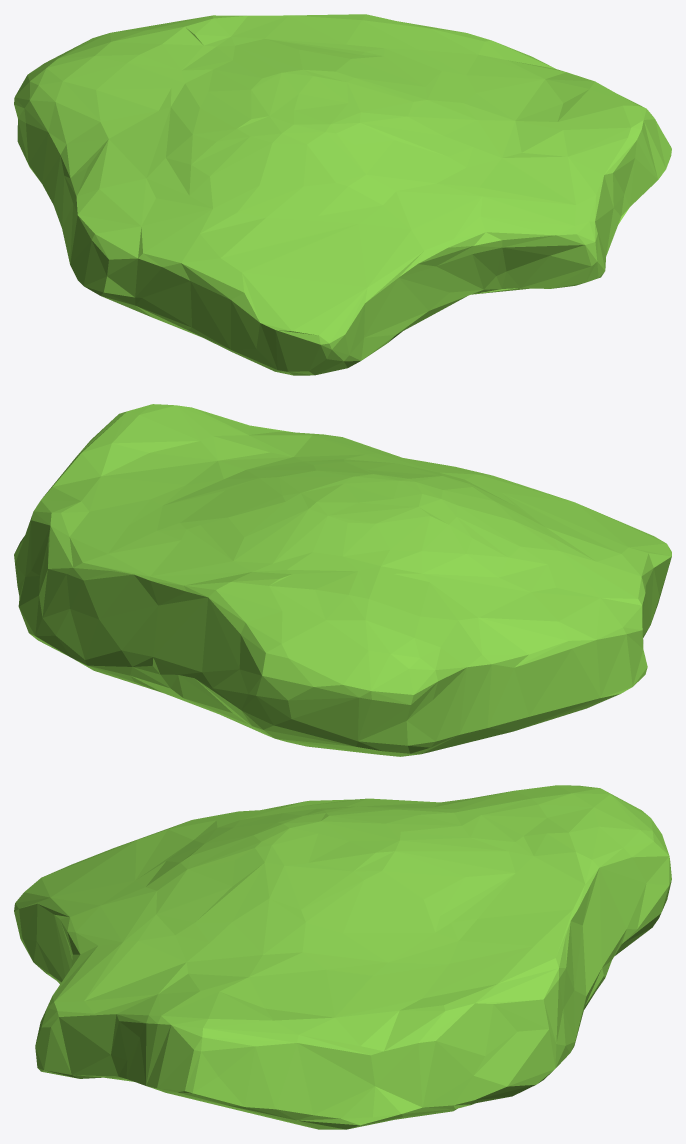
Rendered from Mosh 04.FBX.
The picture shows the model from 3 angles, top to bottom: view 1: azimuth 30°, elevation 25°; view 2: azimuth 150°, elevation 25°; view 3: azimuth 270°, elevation 25°; orthographic projection. The views are drawn at different scales.
Visible parts, largest first — view 1: cube; view 2: cube; view 3: cube.
Boxes of the visible parts, left/top/right/bottom form: cube: left=14, top=14, right=671, bottom=375; cube: left=14, top=404, right=671, bottom=756; cube: left=14, top=785, right=671, bottom=1129.
Bounding box in the file's own units: 104 × 34.33 × 97.68.
